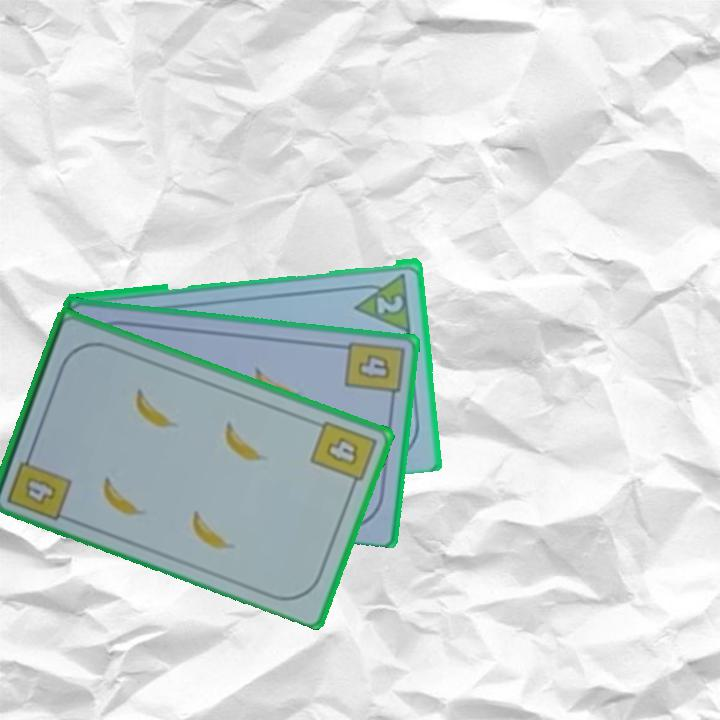2p: (374, 289, 407, 316)
4b: (306, 416, 380, 493), (3, 445, 74, 523), (341, 337, 407, 406)
